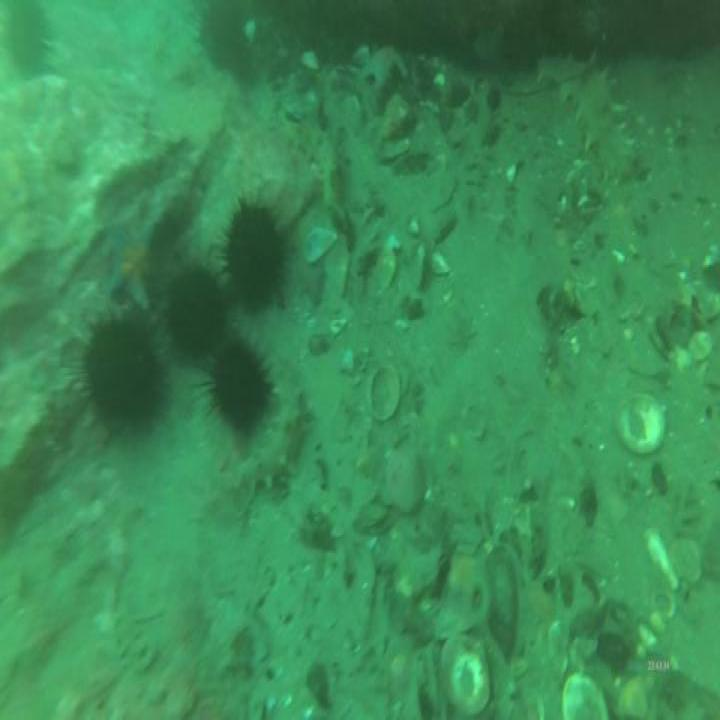echinus: (75, 306, 167, 446), (157, 251, 233, 373), (219, 192, 290, 313), (202, 334, 277, 436), (194, 0, 256, 76), (0, 0, 54, 82)
holothurian: (536, 43, 636, 183), (230, 382, 312, 509)
starfish: (103, 215, 163, 313)
